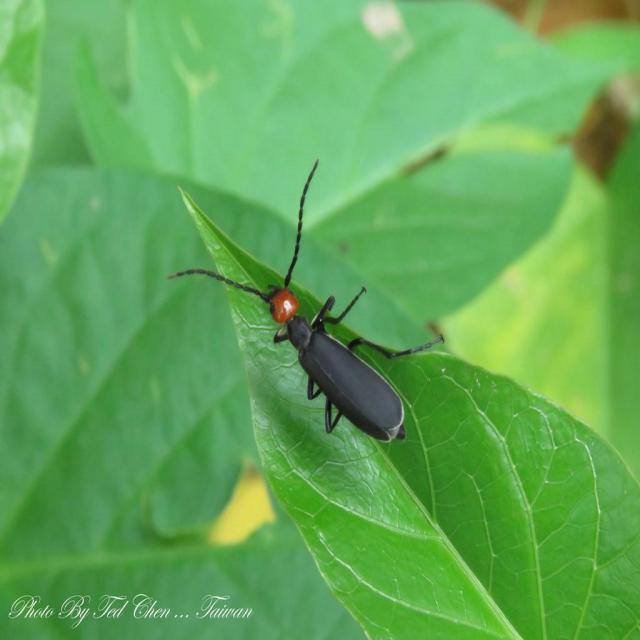BlisterBeetle-Adult-: (165, 158, 447, 447)
